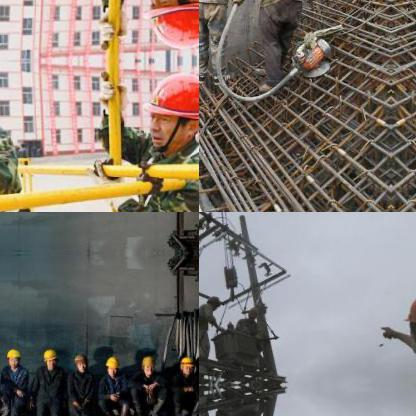Helmet: (134, 62, 198, 155), (133, 0, 198, 58), (397, 283, 415, 353), (42, 344, 58, 369), (177, 353, 195, 375), (3, 345, 19, 369), (104, 354, 119, 378), (140, 352, 154, 376), (203, 291, 221, 309), (72, 352, 88, 372)
